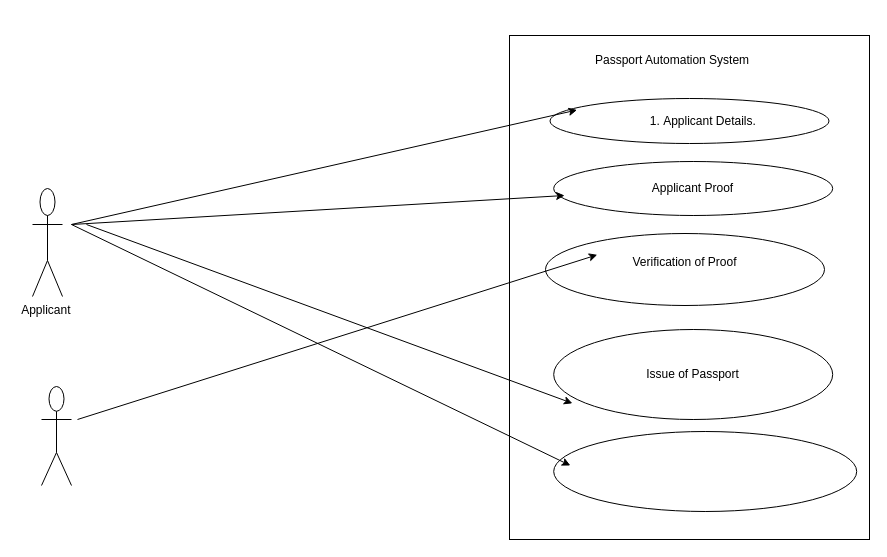
The diagram is 887 pixels wide and 557 high, and some of its shapes have lost their labels. Each missing label, with the centre of its shape:
"Cancellation of the Passport" belongs at (x=705, y=471).
"Enquiry Officer" belongs at (x=56, y=436).
